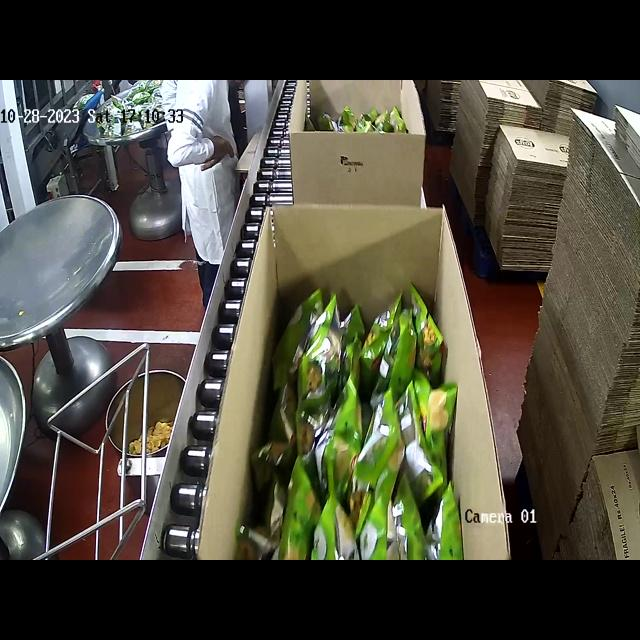yogurt: (240, 281, 463, 558), (305, 106, 414, 137)
